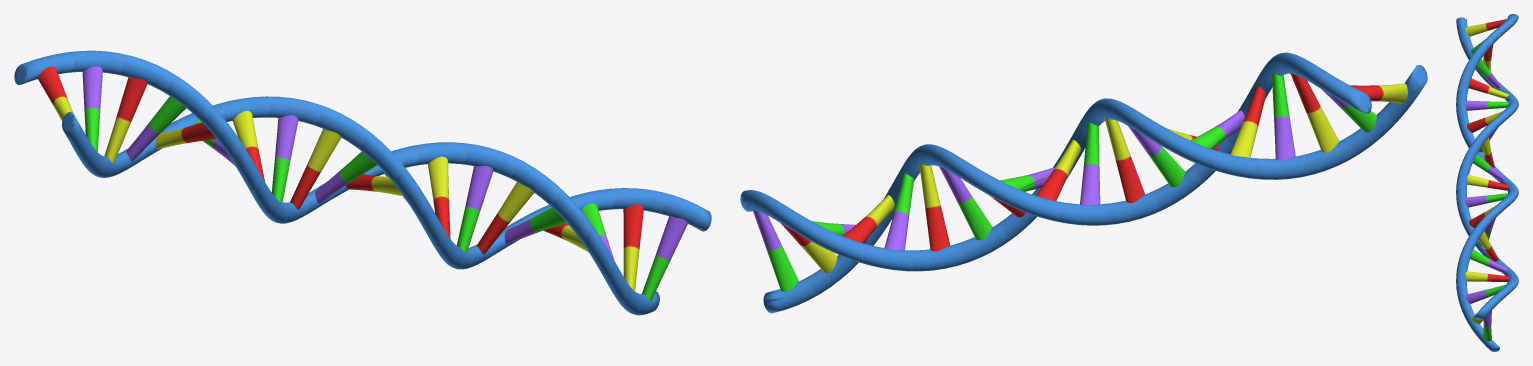
Rendered from DNAStrand.glb.
3 views of the same model, side by side, from view 1: azimuth 30°, elevation 25°; view 2: azimuth 150°, elevation 25°; view 3: azimuth 270°, elevation 25° (orthographic). The views are drawn at different scales.
Visible parts, largest first — view 1: DNA_Material_0; view 2: DNA_Material_0; view 3: DNA_Material_0.
Part boxes in pixels (x1,y1,x2,y2): DNA_Material_0: (14, 50, 711, 315); DNA_Material_0: (740, 52, 1427, 313); DNA_Material_0: (1456, 14, 1518, 351).
Size of the model in its own units: 3772 by 2103 by 619.
Materials: 1 (1 with a texture image).
